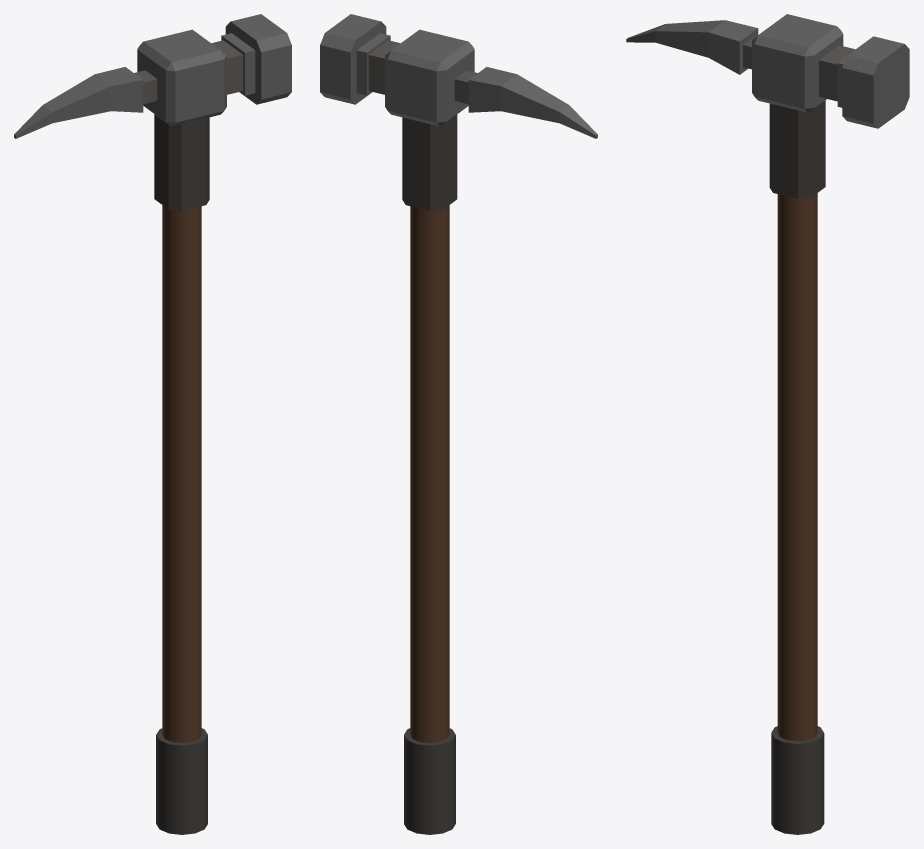
Rendered from War Hammer.fbx.
The picture shows the model from 3 angles, left to right: view 1: azimuth 30°, elevation 25°; view 2: azimuth 150°, elevation 25°; view 3: azimuth 330°, elevation 25°; orthographic projection.
Visible parts, largest first — view 1: War Hammer_Baked; view 2: War Hammer_Baked; view 3: War Hammer_Baked.
Part boxes in pixels (left/top/right/bottom): War Hammer_Baked: left=14, top=14, right=291, bottom=834; War Hammer_Baked: left=320, top=14, right=597, bottom=834; War Hammer_Baked: left=626, top=14, right=909, bottom=834.
Size of the model in its own units: 30.4 by 87.2 by 7.2.
Materials: 1 (1 with a texture image).
